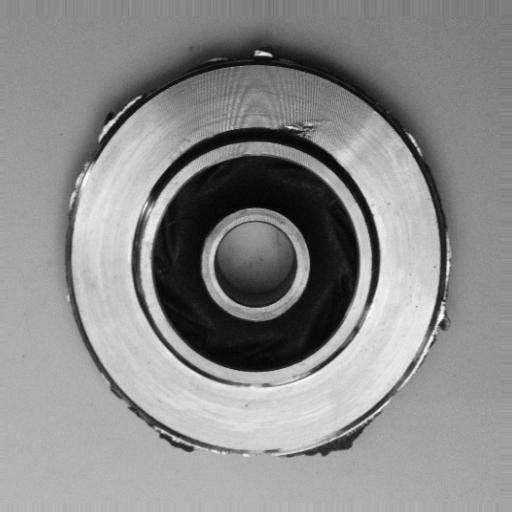casting_with_burr: (54, 44, 456, 467)
crack: (270, 110, 342, 147)
scratch: (214, 364, 327, 392), (132, 184, 158, 255)
